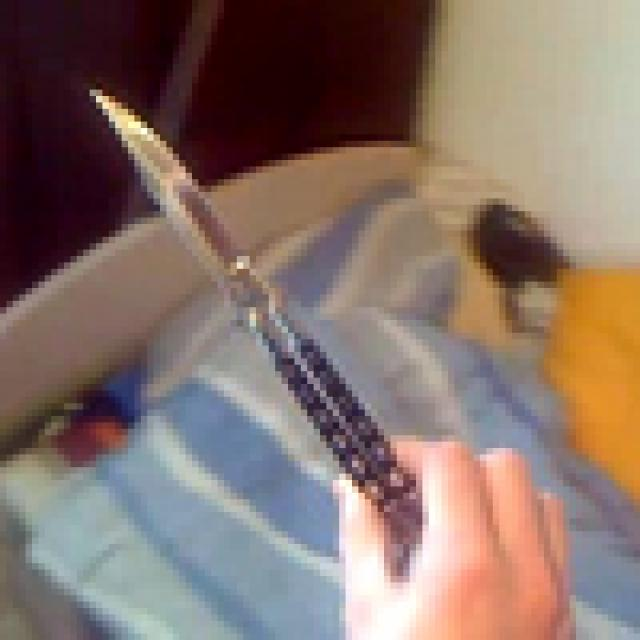weapon: (64, 58, 448, 602)
